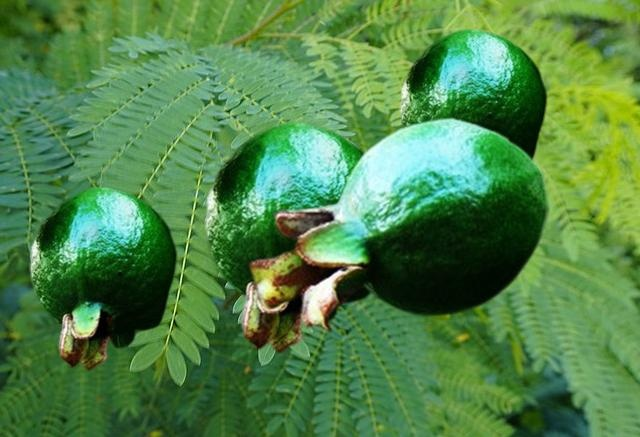guava: (248, 116, 548, 332), (204, 120, 370, 353), (29, 185, 177, 370), (399, 27, 547, 157)
